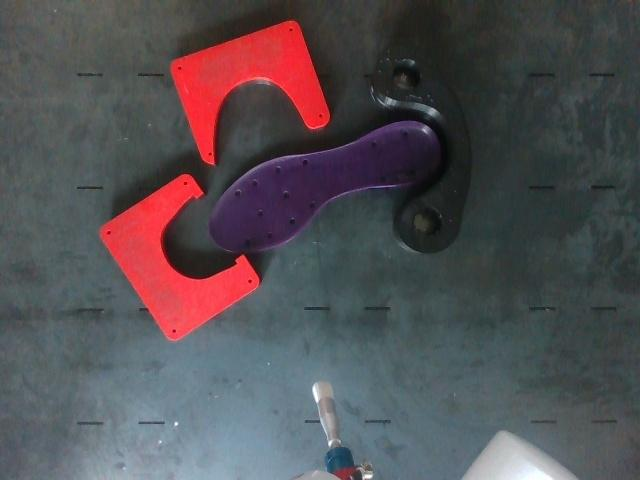shoes: (210, 123, 439, 253)
